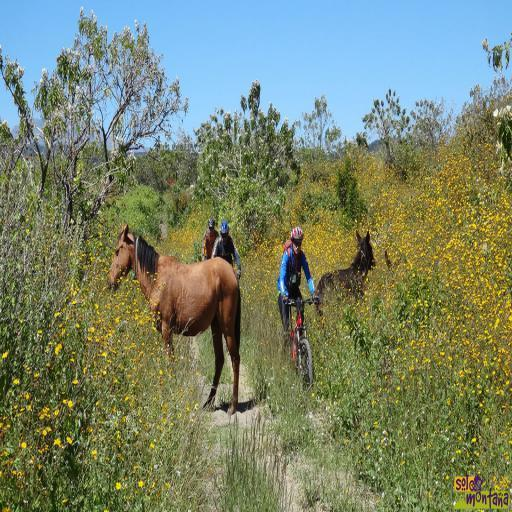horse: (104, 218, 242, 418), (312, 230, 378, 318), (383, 248, 401, 274)
